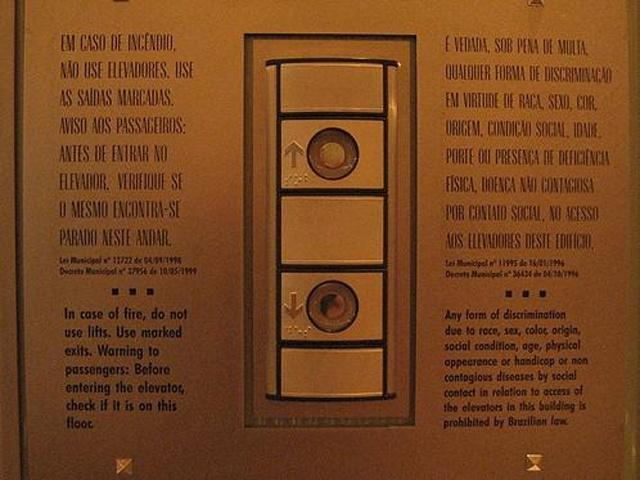close: (274, 263, 389, 345)
unknown: (273, 189, 388, 271)
up: (273, 112, 388, 194)
